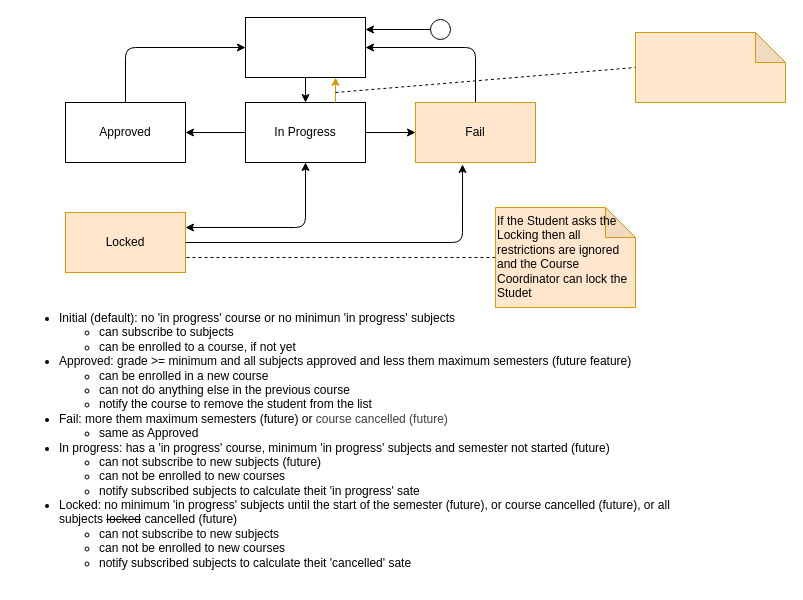
Image size: 803x600. Some labels were removed from this diagram. Each missing label, with the centre of its shape:
"Initial" goes at point 305,47.
"State reset to default on each new Semester" goes at point 710,67.
